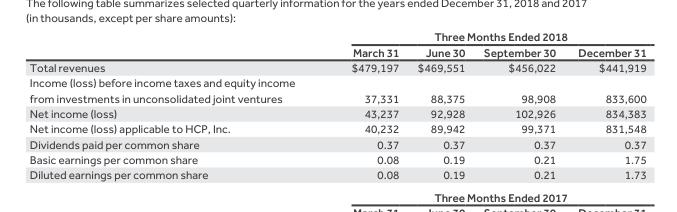table: (28, 29, 645, 181)
table column: (28, 29, 322, 181), (473, 29, 566, 181), (322, 29, 407, 181), (566, 29, 645, 181), (407, 29, 473, 181)
table column header: (28, 29, 645, 59)
table row: (28, 74, 645, 105), (28, 43, 645, 59), (28, 135, 645, 151), (28, 59, 645, 74), (28, 105, 645, 120), (28, 120, 645, 135), (28, 151, 645, 166), (28, 166, 645, 181), (28, 29, 645, 43)
table spanning cell: (322, 29, 645, 43)
